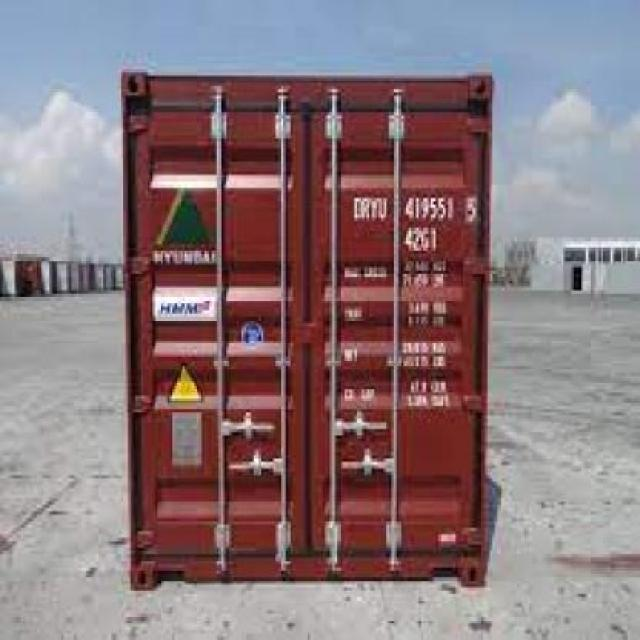ISO: (400, 231, 442, 255)
container_number: (351, 194, 479, 224)
